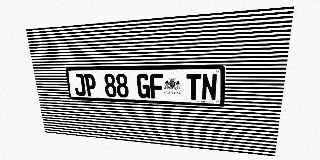8: (115, 74, 129, 98), (103, 74, 117, 97)
F: (150, 74, 164, 99)
G: (136, 74, 150, 98)
J: (73, 74, 86, 96)
N: (201, 73, 218, 101)
P: (84, 74, 97, 96)
T: (186, 74, 201, 100)
